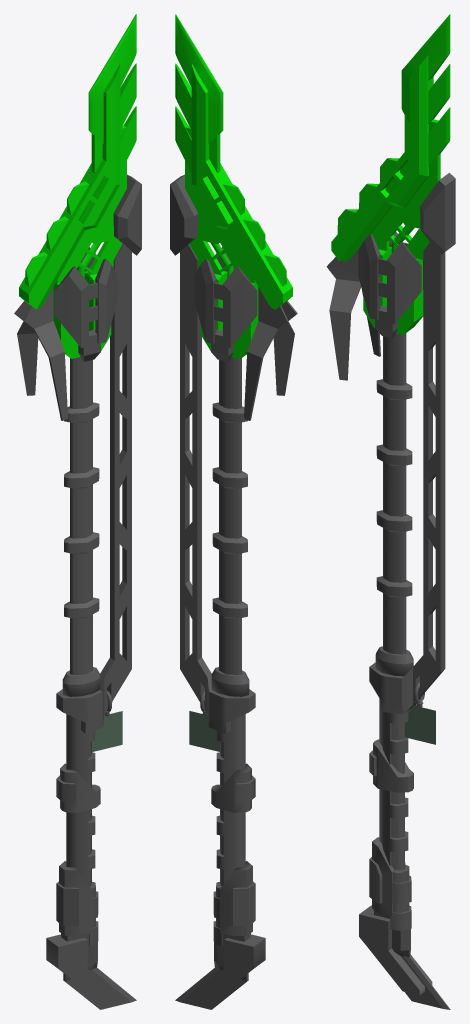
Rendered from Spear.fbx.
3 renders of one model, left to right at view 1: azimuth 30°, elevation 25°; view 2: azimuth 150°, elevation 25°; view 3: azimuth 330°, elevation 25°, orthographic.
Visible parts, largest first — view 1: Spear, Feather; view 2: Spear, Feather; view 3: Spear, Feather.
Boxes of the visible parts, box(x1,y1,x2,y2) form: Spear: box(14, 14, 141, 1009); Feather: box(92, 711, 122, 751); Spear: box(170, 14, 297, 1009); Feather: box(189, 711, 219, 751); Spear: box(326, 14, 455, 1009); Feather: box(405, 705, 435, 744).
Size of the model in its own units: 1.46 by 11.74 by 0.7717.
